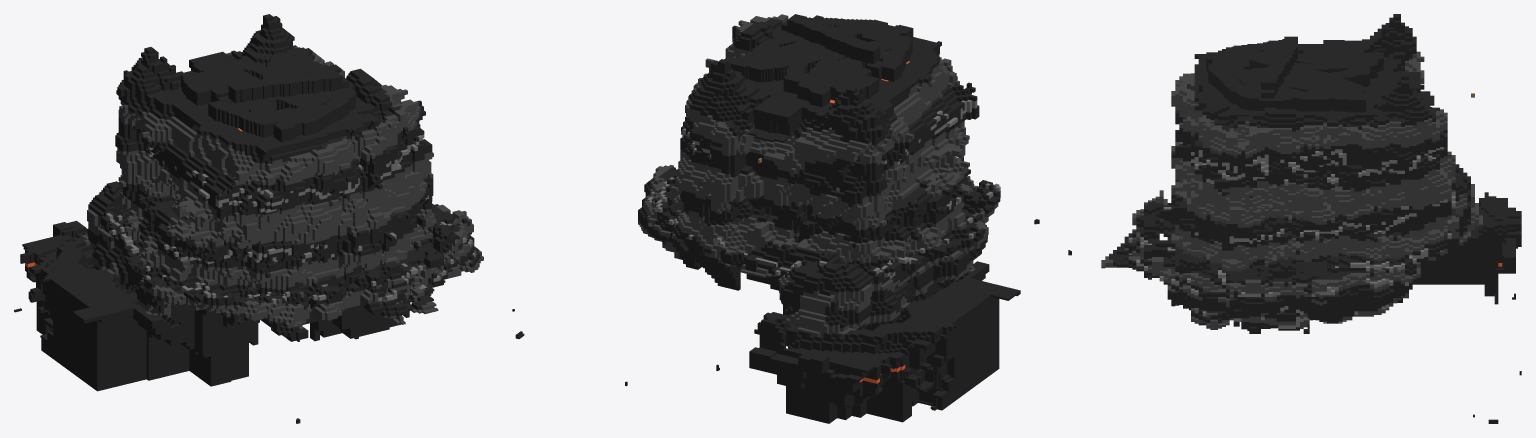
The model's file is Mainpart_lava_vox-2.obj.
3 renders of one model, left to right at view 1: azimuth 30°, elevation 25°; view 2: azimuth 150°, elevation 25°; view 3: azimuth 270°, elevation 25°, orthographic. The views are drawn at different scales.
Bounding box in the file's own units: 24.1 × 16 × 23.3.
1 material, 1 textured.
